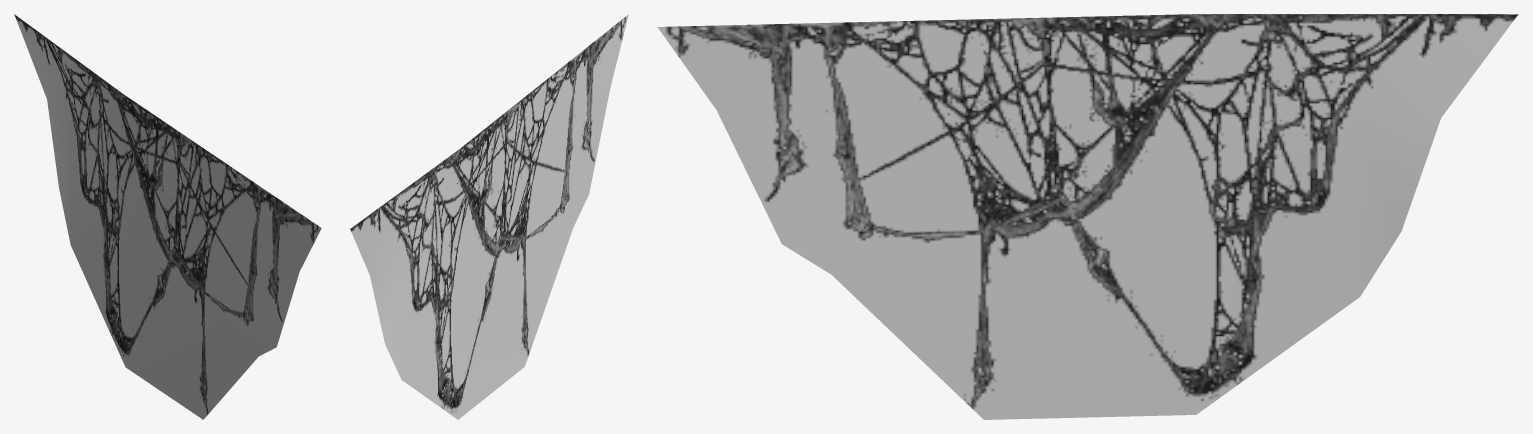
The model's file is SM_Spiderweb_03.gltf.
3 views of the same model, side by side, from view 1: azimuth 30°, elevation 25°; view 2: azimuth 150°, elevation 25°; view 3: azimuth 270°, elevation 25° (orthographic). The views are drawn at different scales.
Parts seen in each view (by area): view 1: SM_Spiderweb_03_LOD0; view 2: SM_Spiderweb_03_LOD0; view 3: SM_Spiderweb_03_LOD0.
Part boxes in pixels (x1,y1,x2,y2): SM_Spiderweb_03_LOD0: [14, 14, 321, 419]; SM_Spiderweb_03_LOD0: [350, 14, 628, 419]; SM_Spiderweb_03_LOD0: [657, 14, 1517, 419].
Size of what is drawn, in the model's own units: 0.0184 by 0.3528 by 0.6864.
